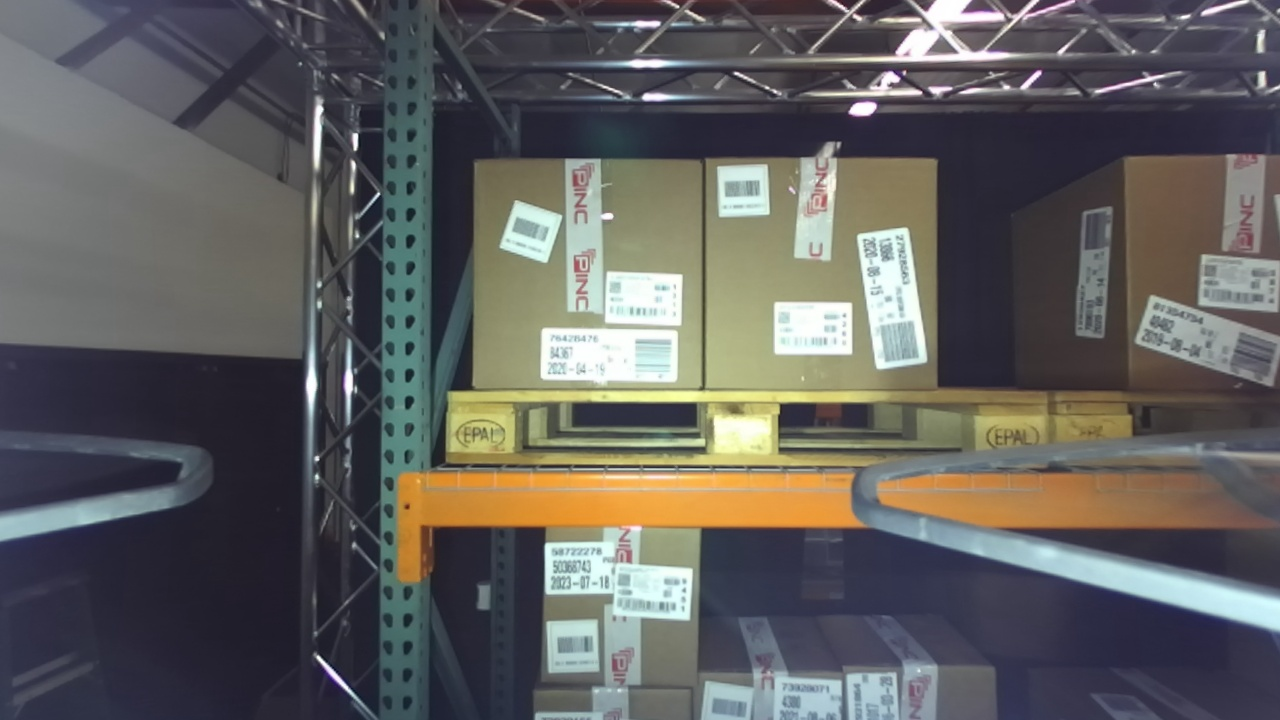box: (684, 136, 949, 399), (460, 149, 727, 406), (1104, 139, 1280, 419), (530, 514, 718, 710)
